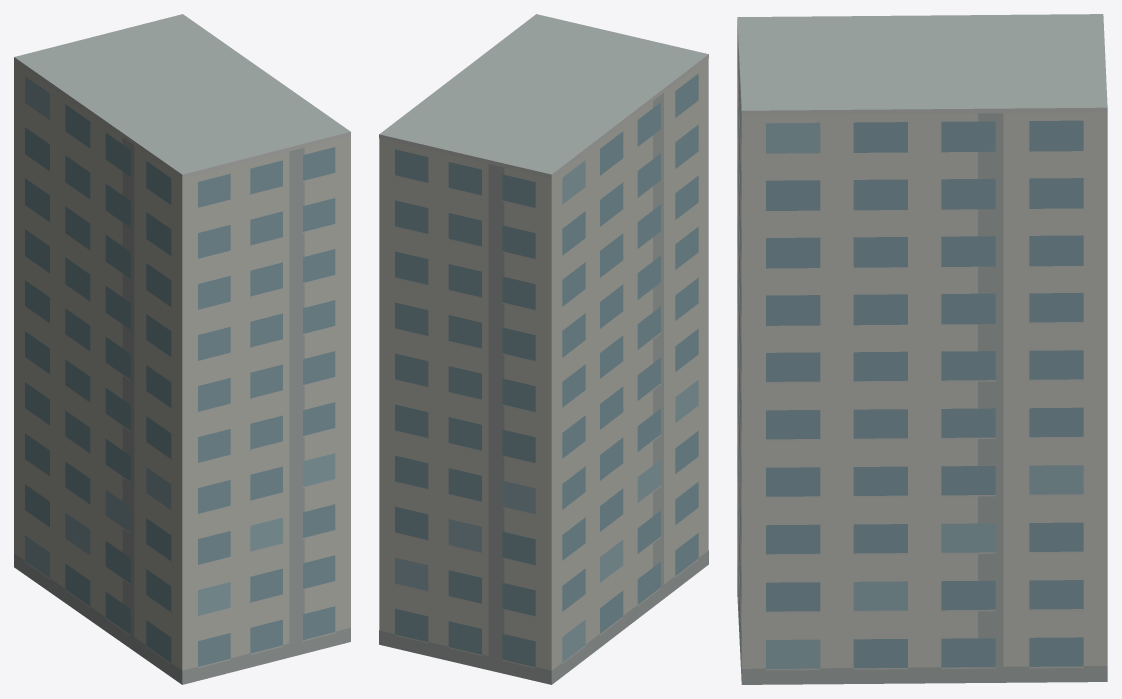
File: residential-1c1fa222-373d-461e-92f2-316503c6d347.glb
3 views of the same model, side by side, from view 1: azimuth 30°, elevation 25°; view 2: azimuth 150°, elevation 25°; view 3: azimuth 270°, elevation 25° (orthographic). The views are drawn at different scales.
Parts seen in each view (by area): view 1: residential-1c1fa222-373d-461e-92f2-316503c6d347.tmp; view 2: residential-1c1fa222-373d-461e-92f2-316503c6d347.tmp; view 3: residential-1c1fa222-373d-461e-92f2-316503c6d347.tmp.
Part boxes in pixels (x1,y1,x2,y2): residential-1c1fa222-373d-461e-92f2-316503c6d347.tmp: (14,14,350,684); residential-1c1fa222-373d-461e-92f2-316503c6d347.tmp: (379,14,708,684); residential-1c1fa222-373d-461e-92f2-316503c6d347.tmp: (737,14,1107,684).
Bounding box in the file's own units: 10.84 × 30 × 17.54.
